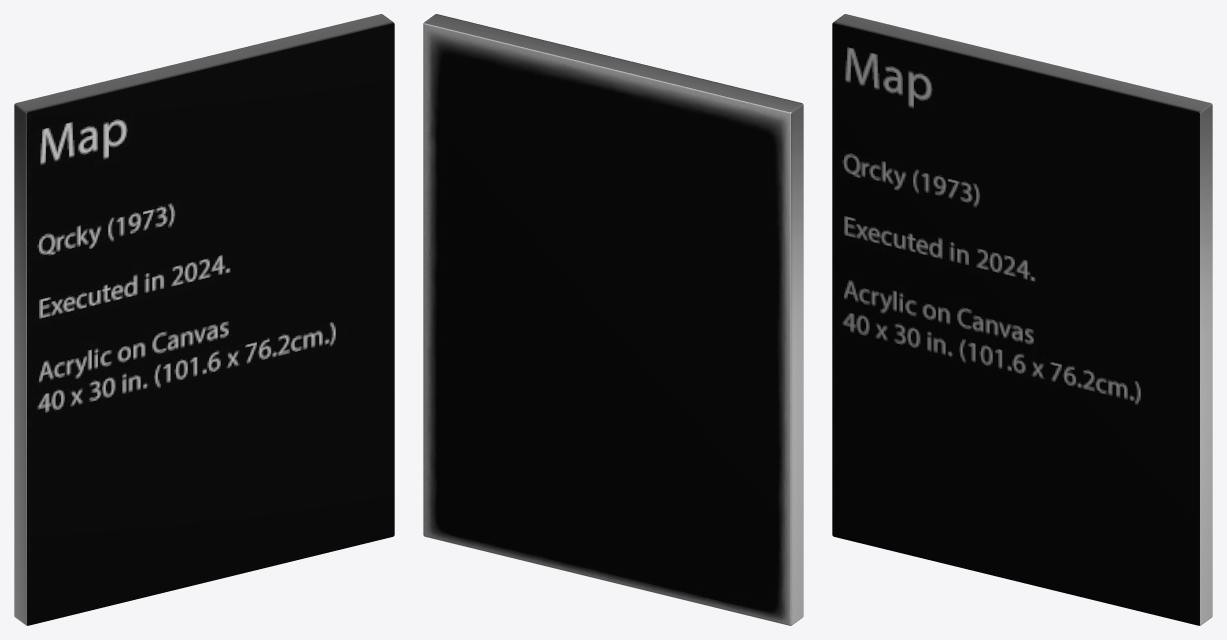
File: maps.glb
The picture shows the model from 3 angles, left to right: view 1: azimuth 30°, elevation 25°; view 2: azimuth 150°, elevation 25°; view 3: azimuth 330°, elevation 25°; orthographic projection.
Parts seen in each view (by area): view 1: Canvas; view 2: Canvas; view 3: Canvas.
Boxes of the visible parts, x1,y1,x2,y2 form: Canvas: [14, 14, 394, 625]; Canvas: [423, 14, 803, 625]; Canvas: [832, 14, 1212, 625].
Size of the model in its own units: 1.56 by 2.08 by 0.0956.
Materials: 1 (1 with a texture image).
